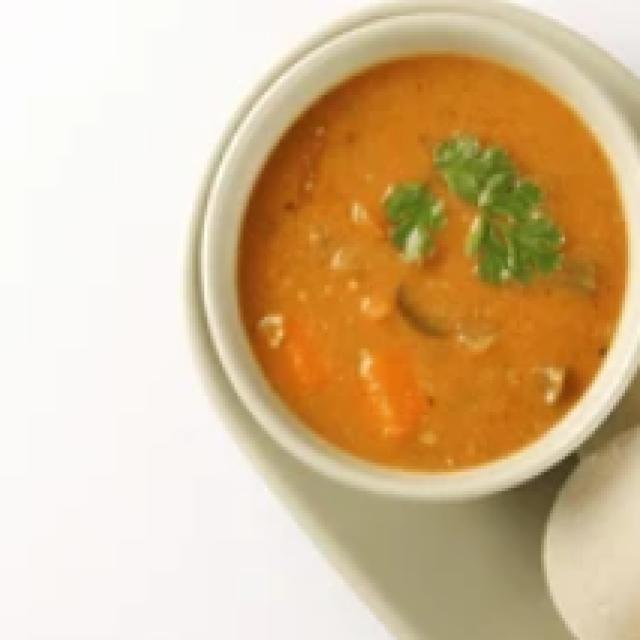sambar: (223, 104, 638, 547)
